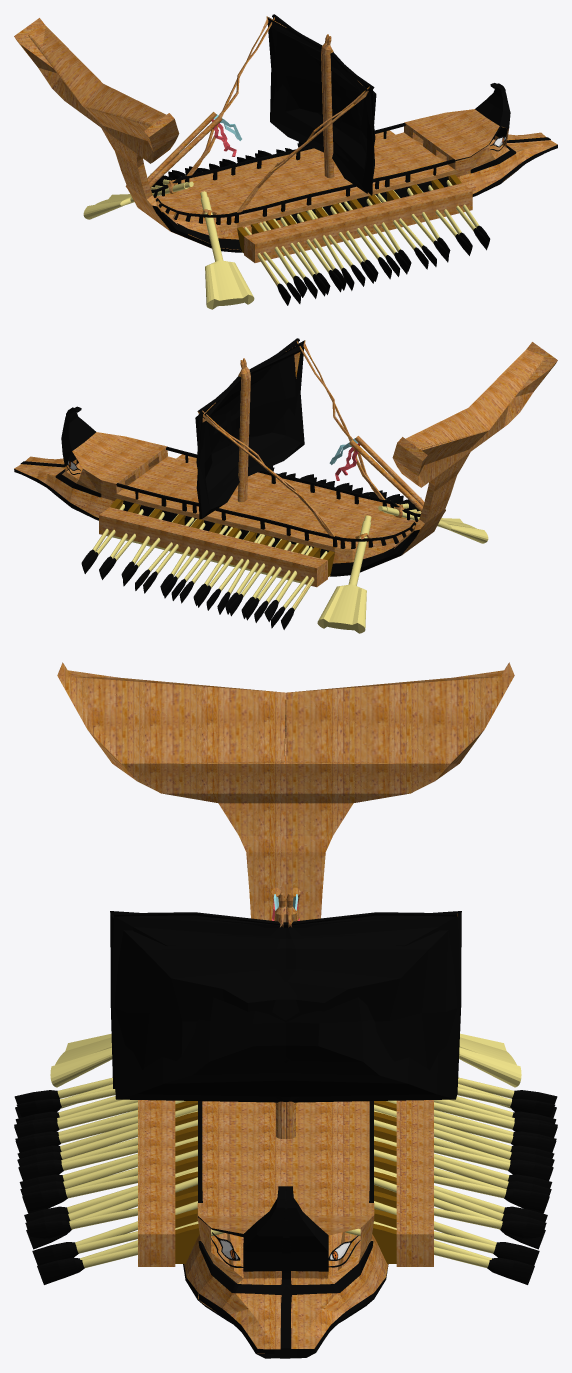
File: ship_fixed.fbx
3 renders of one model, top to bottom at view 1: azimuth 30°, elevation 25°; view 2: azimuth 150°, elevation 25°; view 3: azimuth 270°, elevation 25°, orthographic. The views are drawn at different scales.
Parts seen in each view (by area): view 1: Plane; view 2: Plane; view 3: Plane.
Part boxes in pixels (bbox=[...]): Plane: bbox=[14, 14, 557, 309]; Plane: bbox=[14, 338, 557, 633]; Plane: bbox=[14, 662, 557, 1358].
Bounding box in the file's own units: 864 × 372 × 503.
